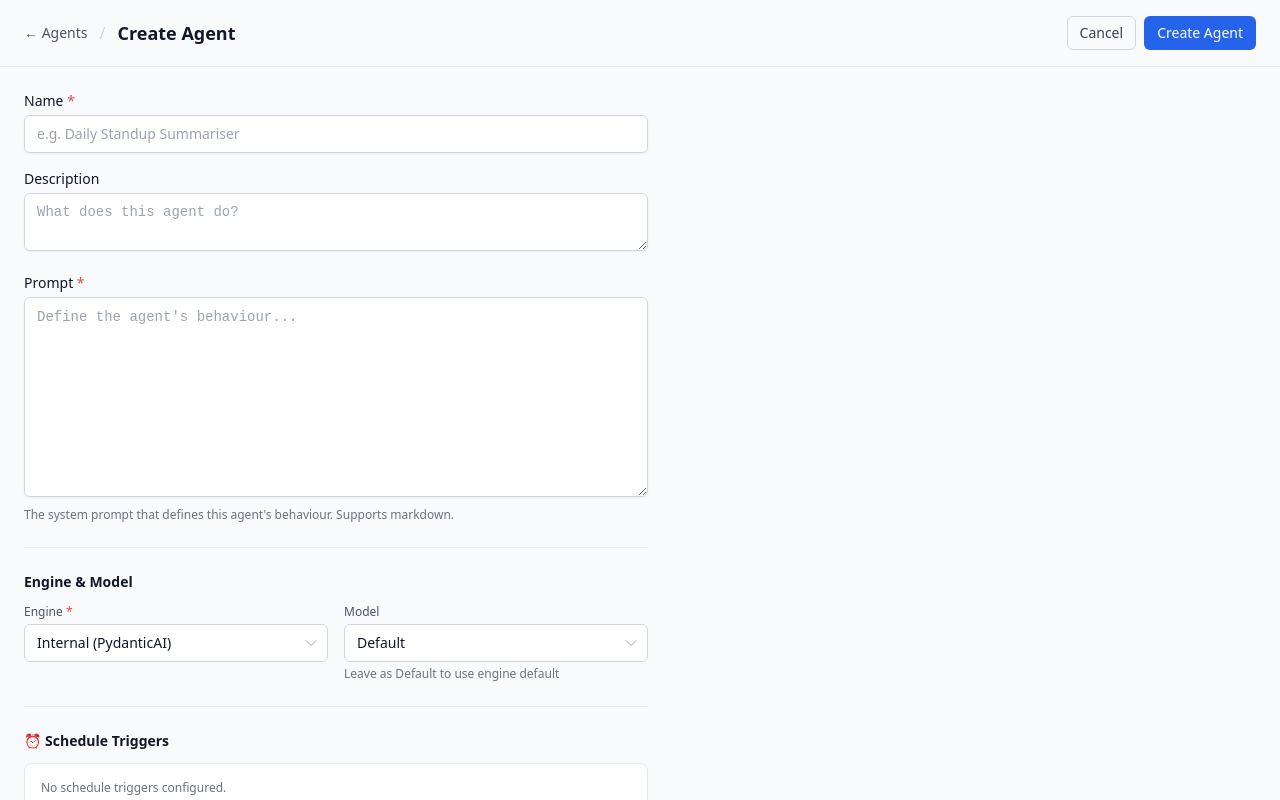
Test case: BackgroundAgentEditor — create mode › shows validation error when prompt is missing
Expected: the heading "Create Agent" is shown, [118,19,236,47]
// Fill in name but not prompt
Type "My Agent" into the field with placeholder "e.g. Daily Standup Summariser".
click(336, 134); type("My Agent")  # box [24,115,648,153]
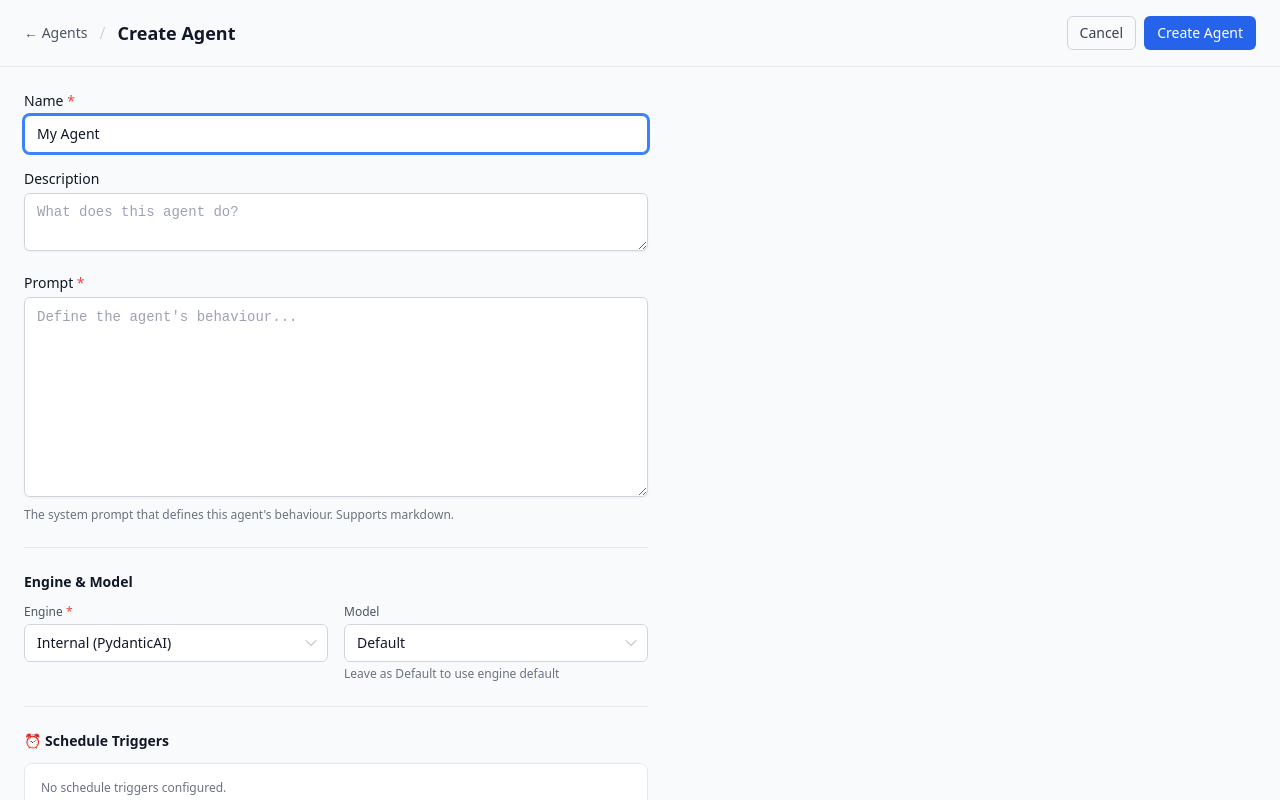
Click the button "Create Agent".
click(1200, 33)  # box [1144,16,1256,50]
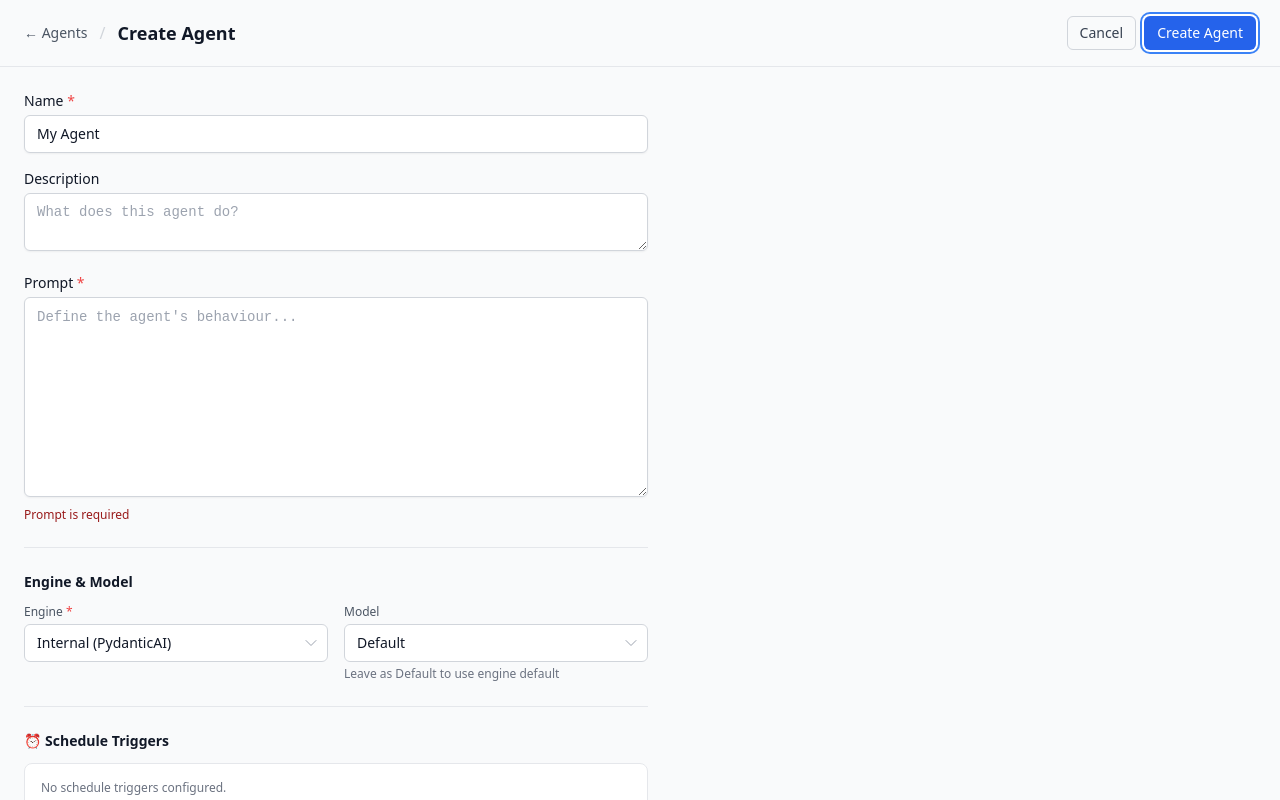
Now the text "Prompt is required" is shown, box [24,506,130,523]
